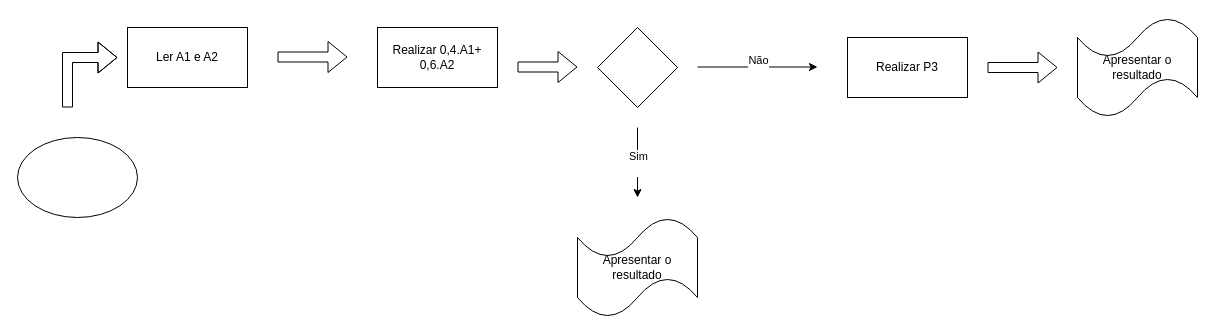
The diagram is 1215 pixels wide and 335 high, and some of its shapes have lost their labels. Each missing label, with the centre of its shape:
"inicio" goes at pixel 77 177.
"Valor = ou > 4,97" goes at pixel 637 67.
